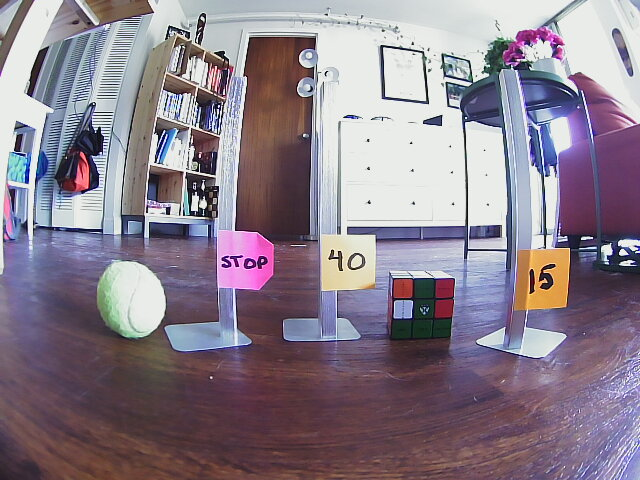15: (516, 249, 570, 312)
40: (319, 232, 374, 291)
ball: (94, 260, 165, 337)
cube: (387, 271, 454, 339)
stop: (215, 228, 277, 292)
